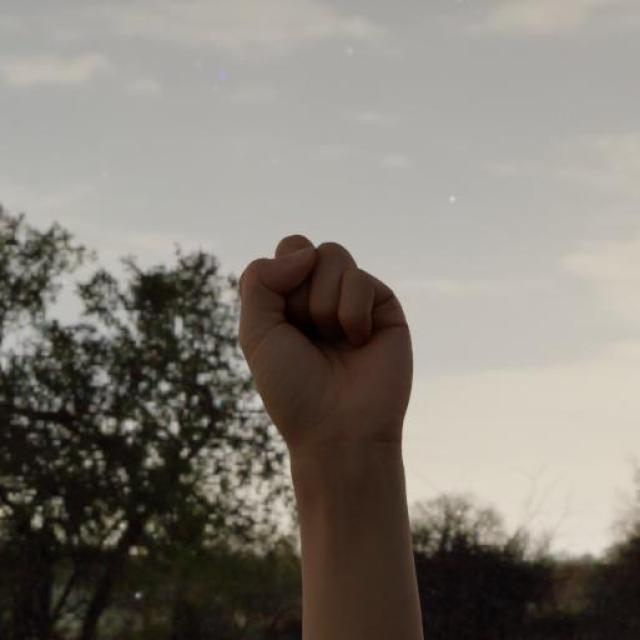S: (233, 220, 418, 464)
